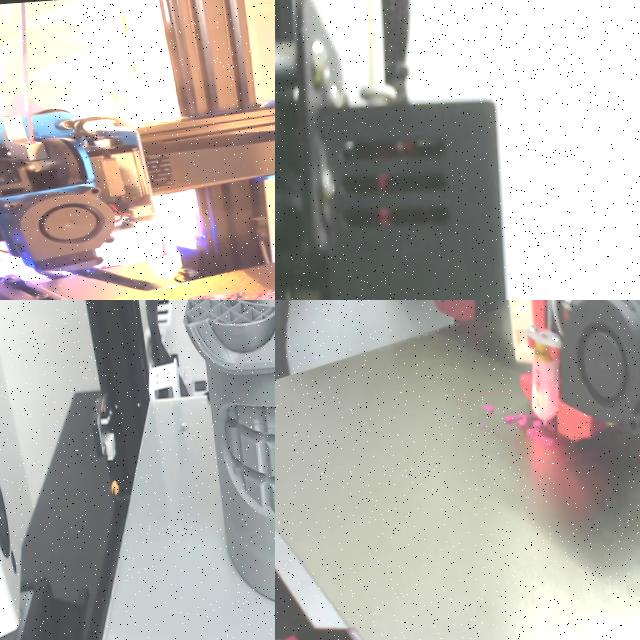spaghetti: (504, 411, 556, 446), (481, 405, 494, 414)
